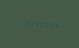four: (32, 19, 36, 27)
seven: (17, 18, 21, 27)
six: (52, 20, 56, 28)
three: (27, 19, 31, 27)
two: (22, 19, 26, 27), (47, 20, 51, 28)
zero: (37, 19, 41, 28), (42, 20, 46, 28)
